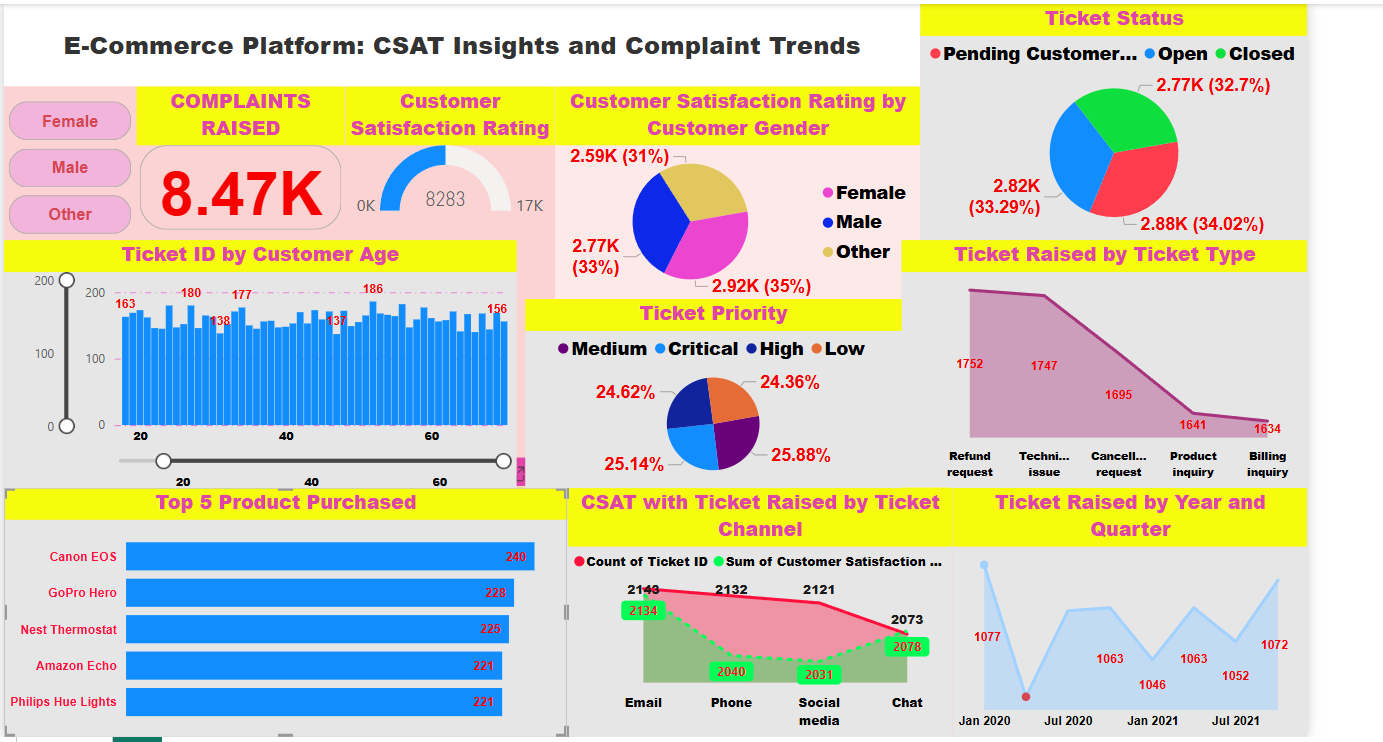

This screenshot's page, from the dashboard's own definition file:
{"tool":"powerbi","page":{"name":"csa","canvas":[1280,720],"ordinal":0},"visuals":[{"type":"pieChart","title":"Customer Satisfaction Rating by Customer Gender","fields":{"Category":["customer_support_tickets.Customer Gender"],"Y":["Sum(customer_support_tickets.Customer Satisfaction Rating)"]},"box":[0,231.9,519,238],"z":0},{"type":"cardVisual","title":" COMPLAINTS RAISED","fields":{"Data":["CountNonNull(customer_support_tickets.Ticket ID)"]},"box":[135,90.8,204.9,141.1],"z":1000},{"type":"pieChart","title":"Ticket Status","fields":{"Y":["CountNonNull(customer_support_tickets.Ticket ID)"],"Category":["customer_support_tickets.Ticket Status"]},"box":[804.9,0,474.8,231.9],"z":2000},{"type":"gauge","title":"Customer Satisfaction Rating","fields":{"Y":["Sum(customer_support_tickets.Customer Satisfaction Rating)"]},"box":[381.6,90.8,258.9,131.3],"z":3000},{"type":"stackedAreaChart","title":" Ticket Raised by Year and Quarter","fields":{"Category":["customer_support_tickets.Date of Purchase.Variation.Date Hierarchy.Year","customer_support_tickets.Date of Purchase.Variation.Date Hierarchy.Quarter"],"Y":["CountNonNull(customer_support_tickets.Ticket ID)"]},"box":[678.5,474.8,601.2,245.4],"z":4000},{"type":"stackedAreaChart","title":" Ticket Raised by Ticket Type","fields":{"Y":["CountNonNull(customer_support_tickets.Ticket ID)"],"Category":["customer_support_tickets.Ticket Type"]},"box":[519,231.9,760.7,242.9],"z":5000},{"type":"areaChart","title":"CSAT with Ticket Raised by Ticket Channel ","fields":{"Category":["customer_support_tickets.Ticket Channel"],"Y":["CountNonNull(customer_support_tickets.Ticket ID)","Sum(customer_support_tickets.Customer Satisfaction Rating)"]},"box":[0,474.8,678.5,245.4],"z":6000},{"type":"advancedSlicerVisual","fields":{"Values":["customer_support_tickets.Customer Gender"]},"box":[0,90.8,130.1,141.1],"z":7000},{"type":"textbox","box":[0,0,804.9,81],"z":8001}]}

Visuals, with their boxes on the page's 1280x720 design canvas (x1, y1, x2, y2). These are canvas units, not pixel positions in the 1383x742 screenshot, which may show the page scaled, cropped or inside an application window:
"Customer Satisfaction Rating by Customer Gender" pieChart: [0, 232, 519, 470]
" COMPLAINTS RAISED" cardVisual: [135, 91, 340, 232]
"Ticket Status" pieChart: [805, 0, 1280, 232]
"Customer Satisfaction Rating" gauge: [382, 91, 640, 222]
" Ticket Raised by Year and Quarter" stackedAreaChart: [678, 475, 1280, 720]
" Ticket Raised by Ticket Type" stackedAreaChart: [519, 232, 1280, 475]
"CSAT with Ticket Raised by Ticket Channel " areaChart: [0, 475, 678, 720]
advancedSlicerVisual - customer_support_tickets.Customer Gender: [0, 91, 130, 232]
textbox: [0, 0, 805, 81]
